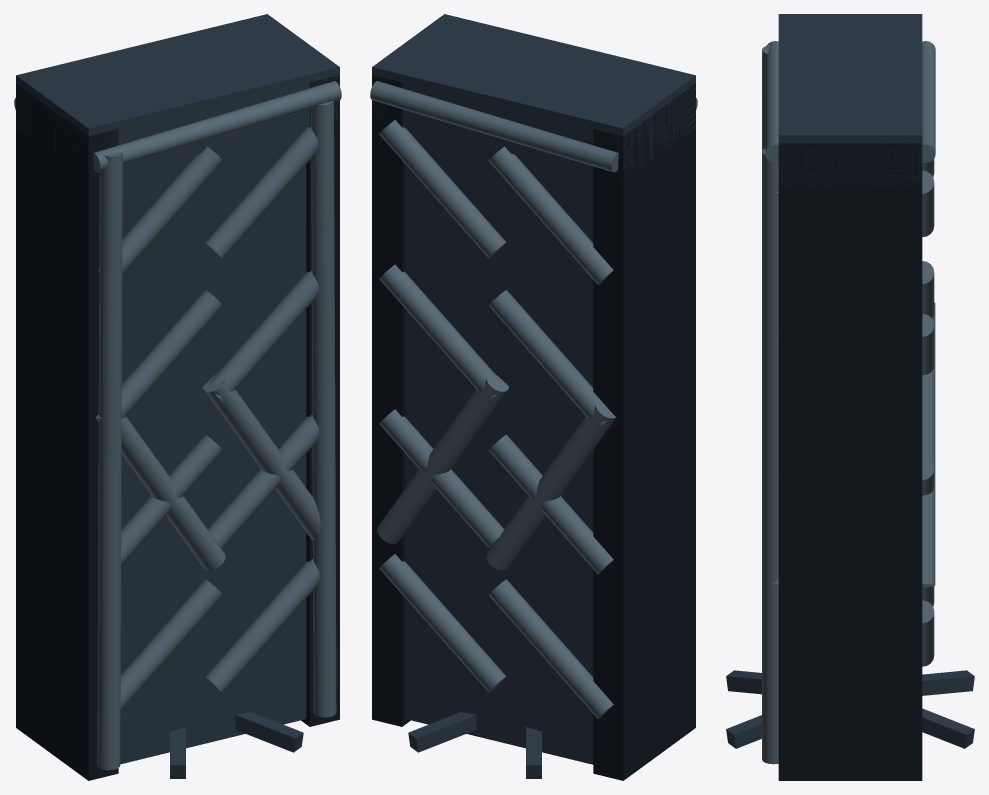
The model's file is CMU3DHiveDoorXenoResinThickWeedbound.glb.
3 views of the same model, side by side, from view 1: azimuth 30°, elevation 25°; view 2: azimuth 150°, elevation 25°; view 3: azimuth 270°, elevation 25° (orthographic).
Parts seen in each view (by area): view 1: retracting organic leaf (×2), solid resin jamb (×2), jamb tendon (×2), leaf sweeping tendon (×8), resin lintel, branching membrane seam (×2), lintel rib, anchoring root (×2); view 2: solid resin jamb (×2), retracting organic leaf (×2), leaf sweeping tendon (×8), resin lintel, branching membrane seam (×2), lintel rib, anchoring root (×2); view 3: solid resin jamb, resin lintel, jamb tendon (×2), anchoring root (×4), leaf sweeping tendon (×5), lintel rib (×2), branching membrane seam.
Part boxes in pixels (left/top/right/bottom): retracting organic leaf (×2): left=120, top=128, right=306, bottom=764; solid resin jamb (×2): left=16, top=75, right=339, bottom=780; jamb tendon (×2): left=97, top=100, right=336, bottom=770; leaf sweeping tendon (×8): left=98, top=126, right=319, bottom=710; resin lintel: left=16, top=14, right=339, bottom=179; branching membrane seam (×2): left=95, top=373, right=320, bottom=570; lintel rib: left=93, top=81, right=341, bottom=172; anchoring root (×2): left=170, top=712, right=303, bottom=778; solid resin jamb (×2): left=372, top=75, right=695, bottom=780; retracting organic leaf (×2): left=405, top=128, right=593, bottom=764; leaf sweeping tendon (×8): left=379, top=120, right=613, bottom=718; resin lintel: left=372, top=14, right=695, bottom=178; branching membrane seam (×2): left=377, top=373, right=616, bottom=570; lintel rib: left=370, top=81, right=618, bottom=172; anchoring root (×2): left=408, top=712, right=541, bottom=778; solid resin jamb: left=778, top=143, right=922, bottom=780; resin lintel: left=778, top=14, right=922, bottom=187; jamb tendon (×2): left=762, top=45, right=778, bottom=764; anchoring root (×4): left=726, top=670, right=974, bottom=748; leaf sweeping tendon (×5): left=922, top=170, right=934, bottom=666; lintel rib (×2): left=765, top=41, right=935, bottom=162; branching membrane seam: left=922, top=355, right=935, bottom=587.
Bounding box in the file's own units: 1 × 2.48 × 0.8662.
